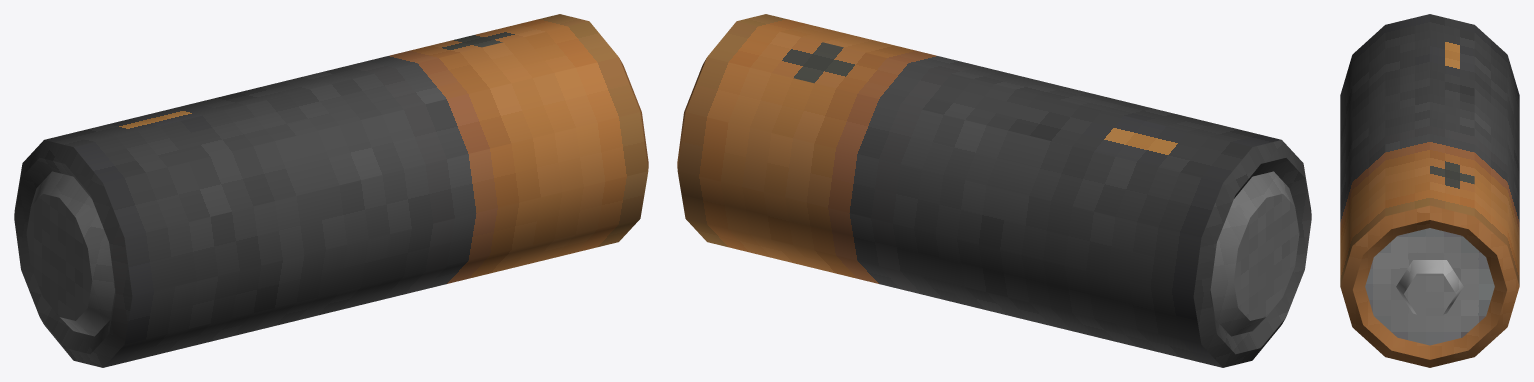
The model's file is battery_mp_1.glb.
3 renders of one model, left to right at view 1: azimuth 30°, elevation 25°; view 2: azimuth 150°, elevation 25°; view 3: azimuth 270°, elevation 25°, orthographic. The views are drawn at different scales.
Parts seen in each view (by area): view 1: battery_mp_1; view 2: battery_mp_1; view 3: battery_mp_1.
Boxes of the visible parts, box(x1,y1,x2,y2) form: battery_mp_1: box(14, 14, 648, 367); battery_mp_1: box(677, 14, 1311, 367); battery_mp_1: box(1340, 14, 1519, 367).
Size of the model in its own units: 0.097 by 0.036 by 0.036.
1 material, 1 textured.
